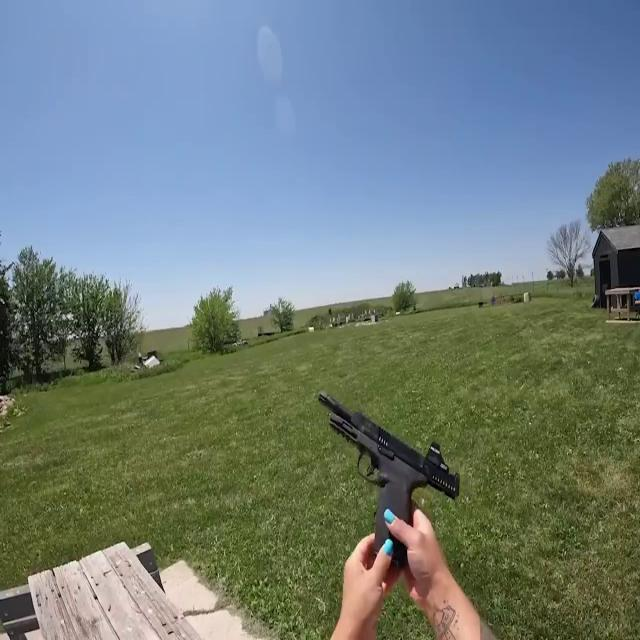Handgun: (307, 384, 465, 562)
